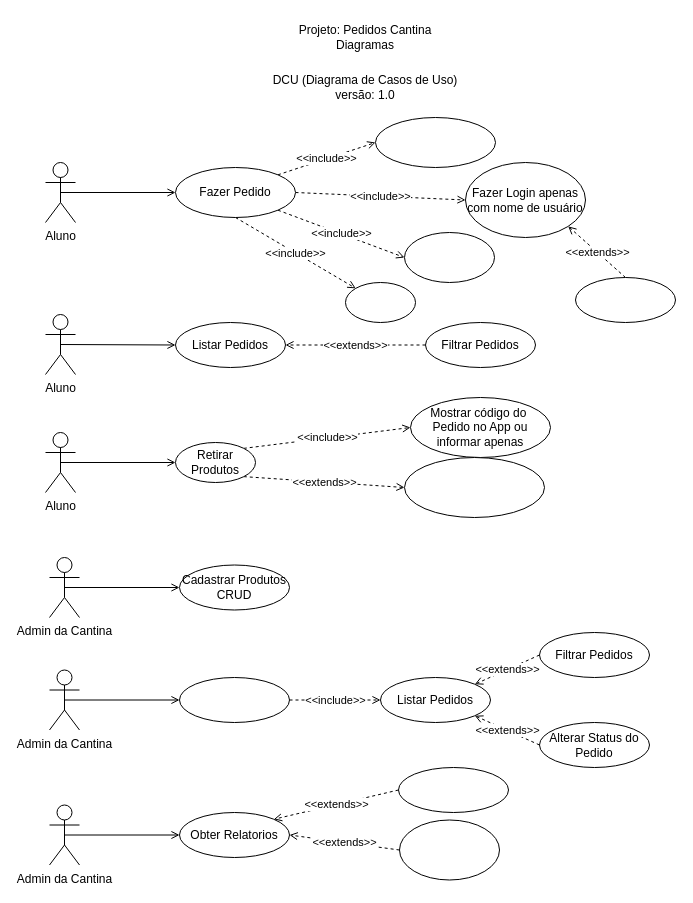
Image size: 693x903. Some labels were removed from this diagram. The centre of each missing label's shape, as x and y in pixels:
"Acessar App ou WebPage" goes at point 435,142.
"Combinar forma de pagamento" goes at point 474,487.
"Concluir Pedido" goes at point 380,302.
"Criar novo usuário" goes at point 625,299.
"Entregar Produto" goes at point 234,699.
"Pedidos Concluídos no dia" goes at point 449,849.
"Pedidos em Aberto" goes at point 453,789.
"Selecionar produtos" goes at point 449,257.
